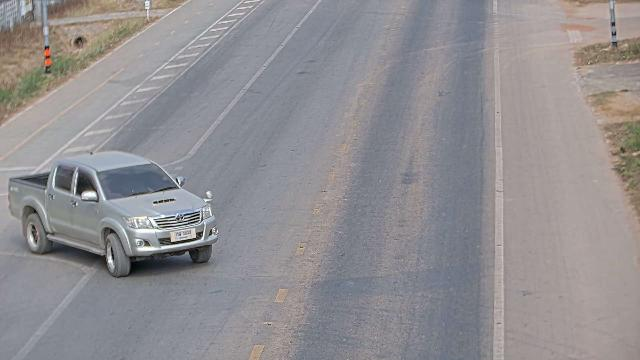pickup-truck: (7, 149, 219, 278)
